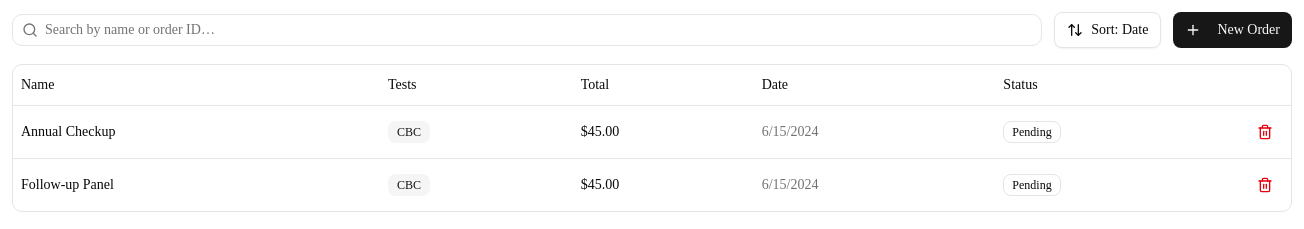
Scenario: OrderTable › filters by order name (case-insensitive)
Step 1. Type "annual" into the field with placeholder "Search by name or order ID…" → (527, 30), box [12,14,1042,46]
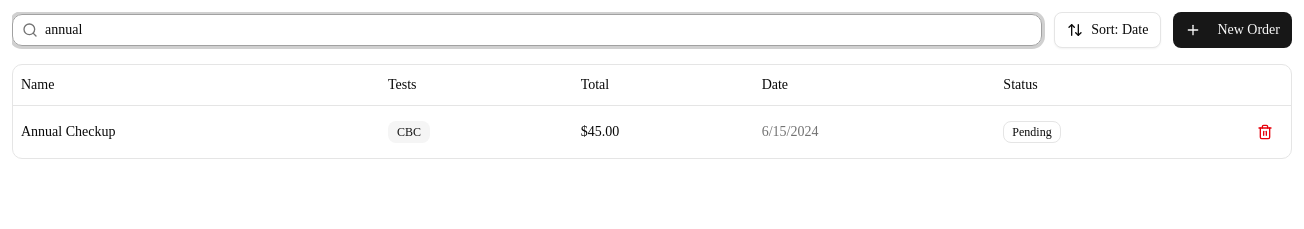
Expected: the text "Annual Checkup" is shown, [13,105,380,158]
Now the text "Follow-up Panel" is gone
